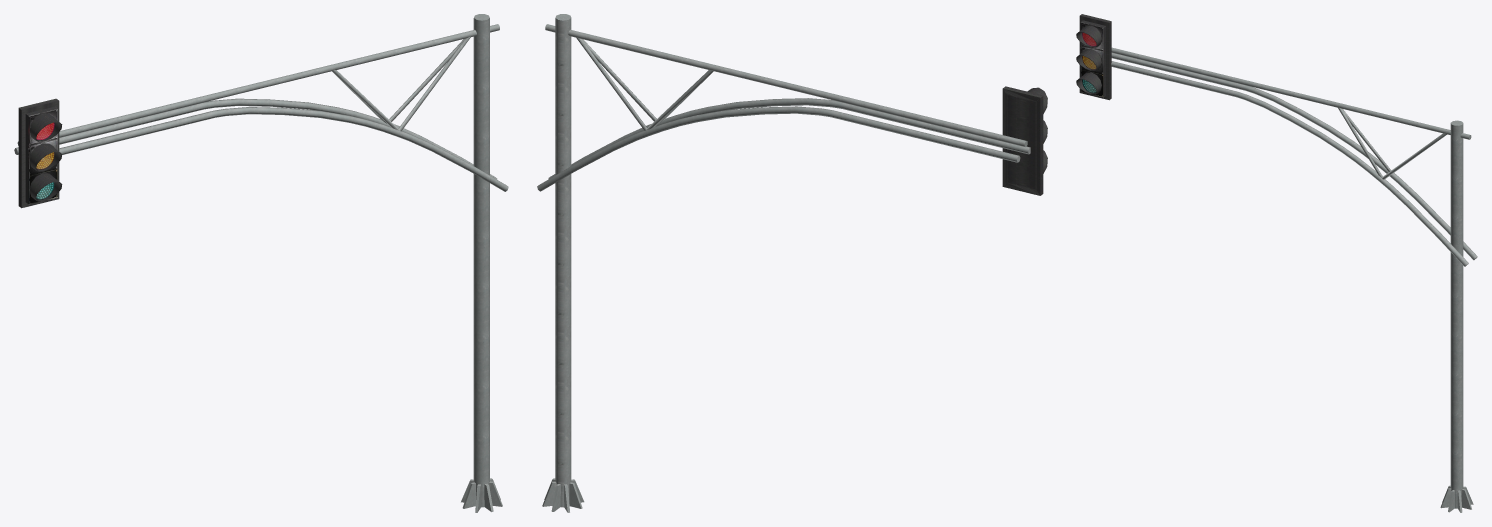
The model's file is honglvdeng1113.gltf.
The picture shows the model from 3 angles, left to right: view 1: azimuth 30°, elevation 25°; view 2: azimuth 150°, elevation 25°; view 3: azimuth 330°, elevation 25°; orthographic projection. The views are drawn at different scales.
Visible parts, largest first — view 1: Line1087; view 2: Line1087; view 3: Line1087.
Part boxes in pixels (x1=…): Line1087: x1=14, y1=14, x2=508, y2=512; Line1087: x1=537, y1=14, x2=1047, y2=512; Line1087: x1=1076, y1=14, x2=1477, y2=512.
Size of the model in its own units: 9.29 by 9.34 by 1.12.
6 materials, 6 textured.
